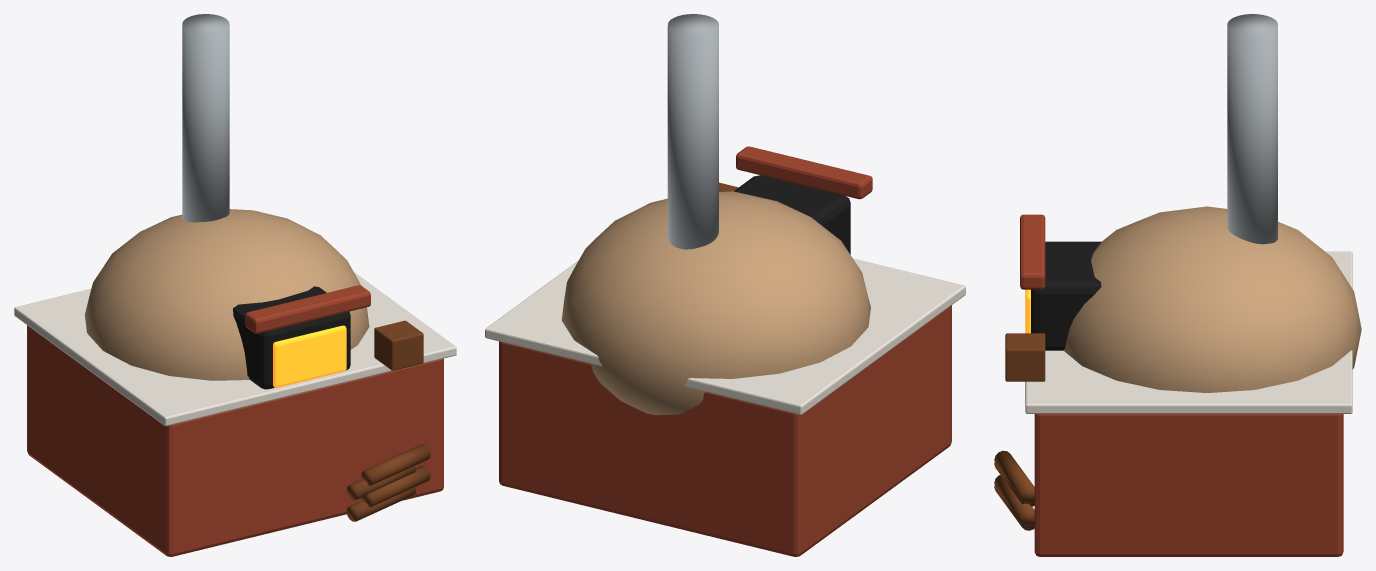
Rendered from ofen-3-legna.glb.
The picture shows the model from 3 angles, left to right: view 1: azimuth 30°, elevation 25°; view 2: azimuth 150°, elevation 25°; view 3: azimuth 270°, elevation 25°; orthographic projection. The views are drawn at different scales.
Parts seen in each view (by area): view 1: Cube, Icosphere, Cube.001, Cylinder, Cube.002, Cube.003, Cube.004, Cube.005, Cylinder.004, Cylinder.002, Cylinder.001, Cylinder.003; view 2: Cube, Icosphere, Cube.001, Cylinder, Cube.004, Cube.002; view 3: Cube, Icosphere, Cube.001, Cylinder, Cube.002, Cube.005, Cube.004, Cylinder.004, Cylinder.002.
Boxes of the visible parts, x1,y1,x2,y2 form: Cube: (27, 325, 443, 556); Icosphere: (84, 209, 369, 380); Cube.001: (14, 272, 456, 426); Cylinder: (182, 14, 229, 222); Cube.002: (233, 286, 350, 389); Cube.003: (273, 325, 346, 387); Cube.004: (245, 285, 370, 333); Cube.005: (374, 320, 423, 370); Cylinder.004: (361, 444, 430, 485); Cylinder.002: (361, 465, 430, 507); Cylinder.001: (346, 487, 415, 521); Cylinder.003: (346, 465, 415, 500); Cube: (499, 305, 951, 556); Icosphere: (561, 191, 870, 415); Cube.001: (485, 258, 965, 414); Cylinder: (667, 14, 718, 249); Cube.004: (736, 146, 872, 199); Cube.002: (734, 175, 850, 254); Cube: (1034, 414, 1343, 556); Icosphere: (1064, 206, 1361, 392); Cube.001: (1025, 251, 1352, 413); Cylinder: (1227, 14, 1277, 244); Cube.002: (1031, 241, 1101, 350); Cube.005: (1005, 333, 1045, 381); Cube.004: (1020, 214, 1045, 289); Cylinder.004: (994, 450, 1034, 503); Cylinder.002: (994, 475, 1034, 526).
Size of the model in its own units: 2 by 2.8 by 2.02.
